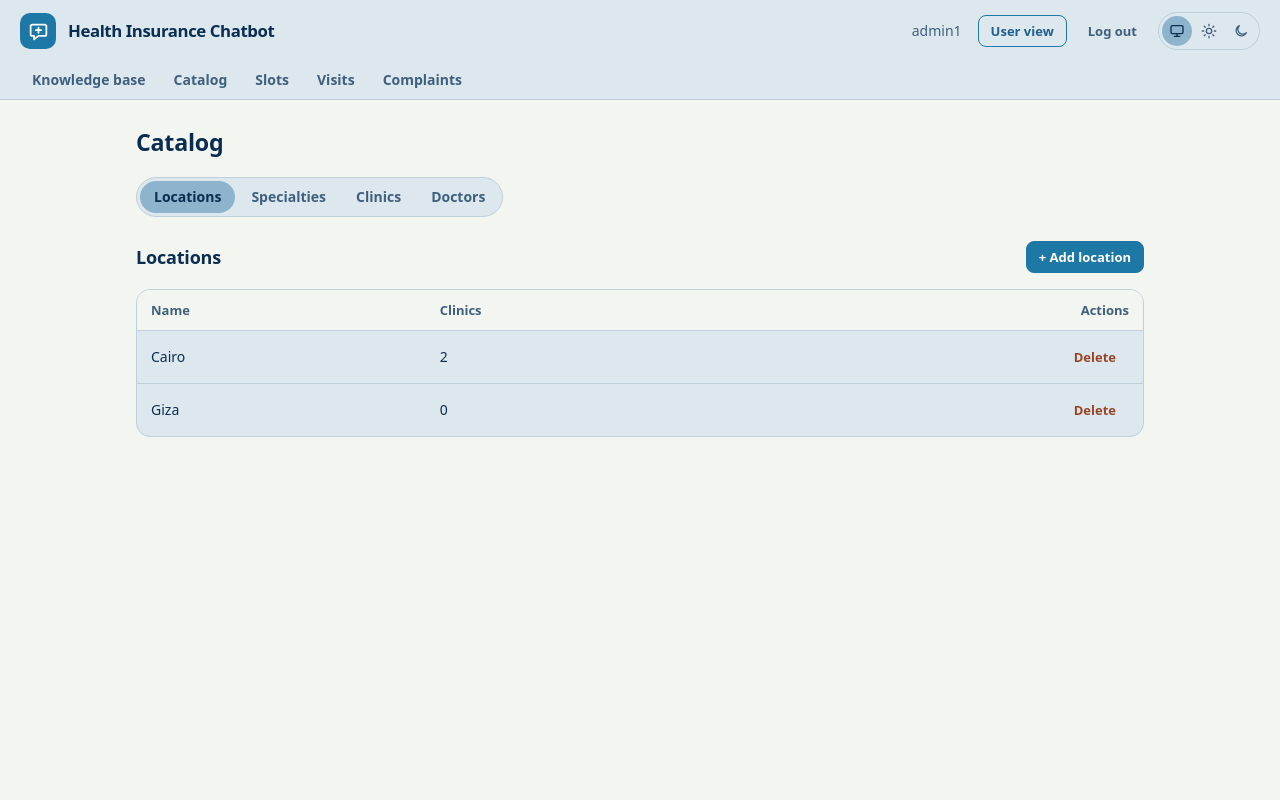
it: AdminCatalogPage › A5: cancelling the confirmation deletes nothing
Click the button with test id "catalog-delete" in the row of "Giza". click: x=1095, y=410
box: [1061,394,1129,426]
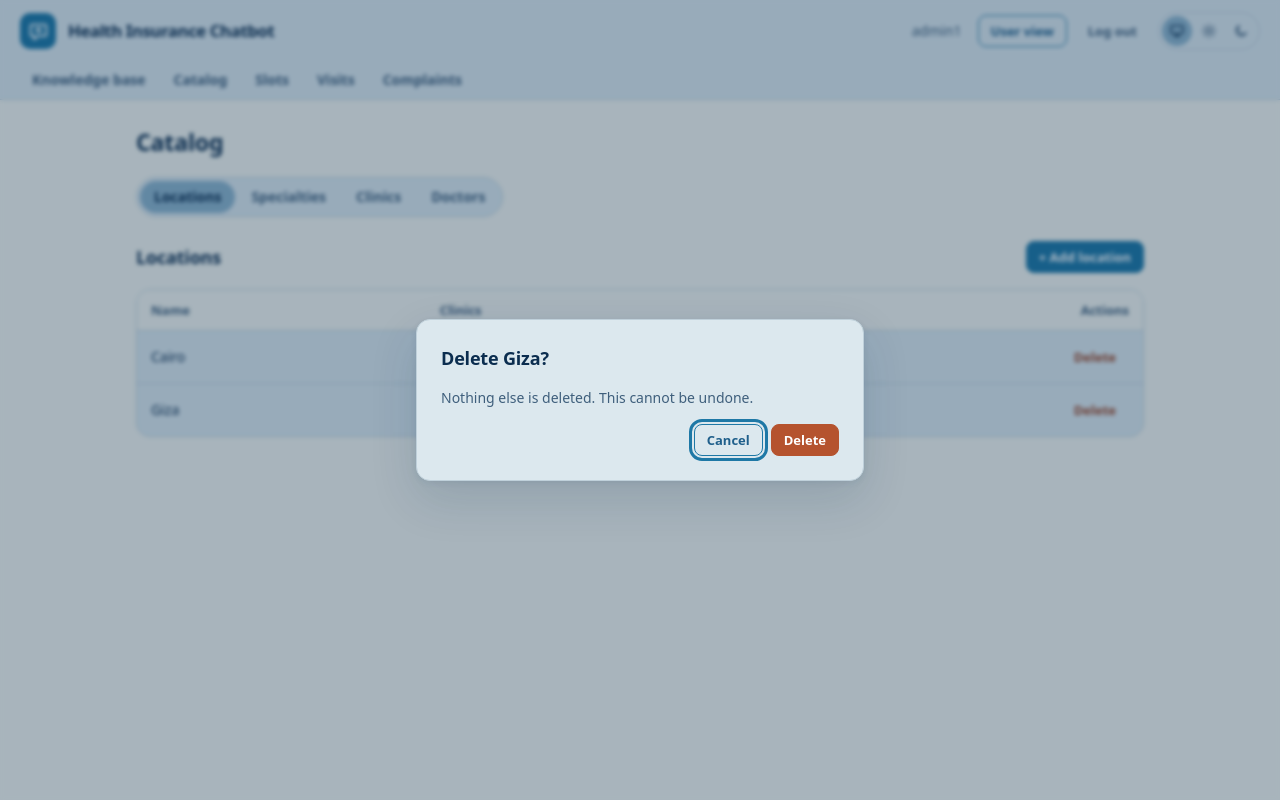
Now the dialog shows "Delete Giza?", box [441,346,549,370]
Click the button with test id "confirm-cancel". click: x=728, y=440
box: [694,424,763,456]
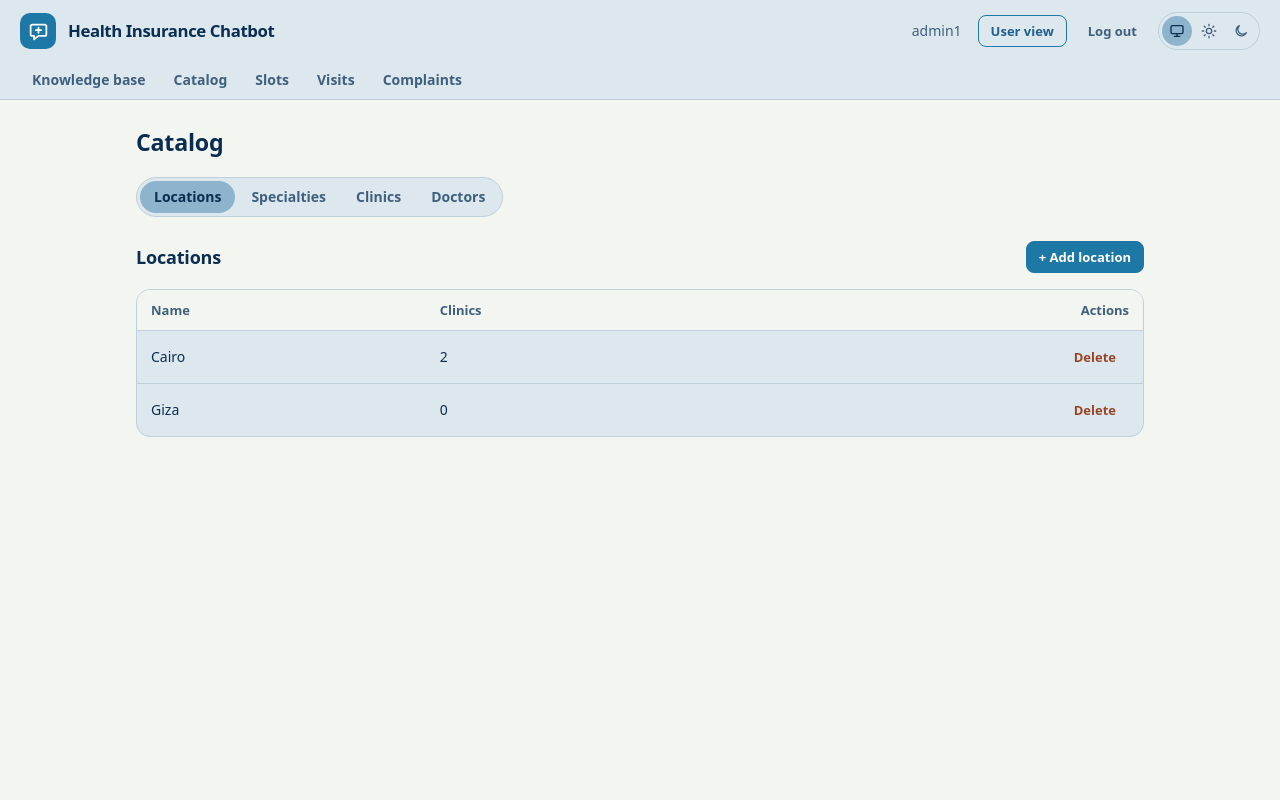
Now the dialog is gone
